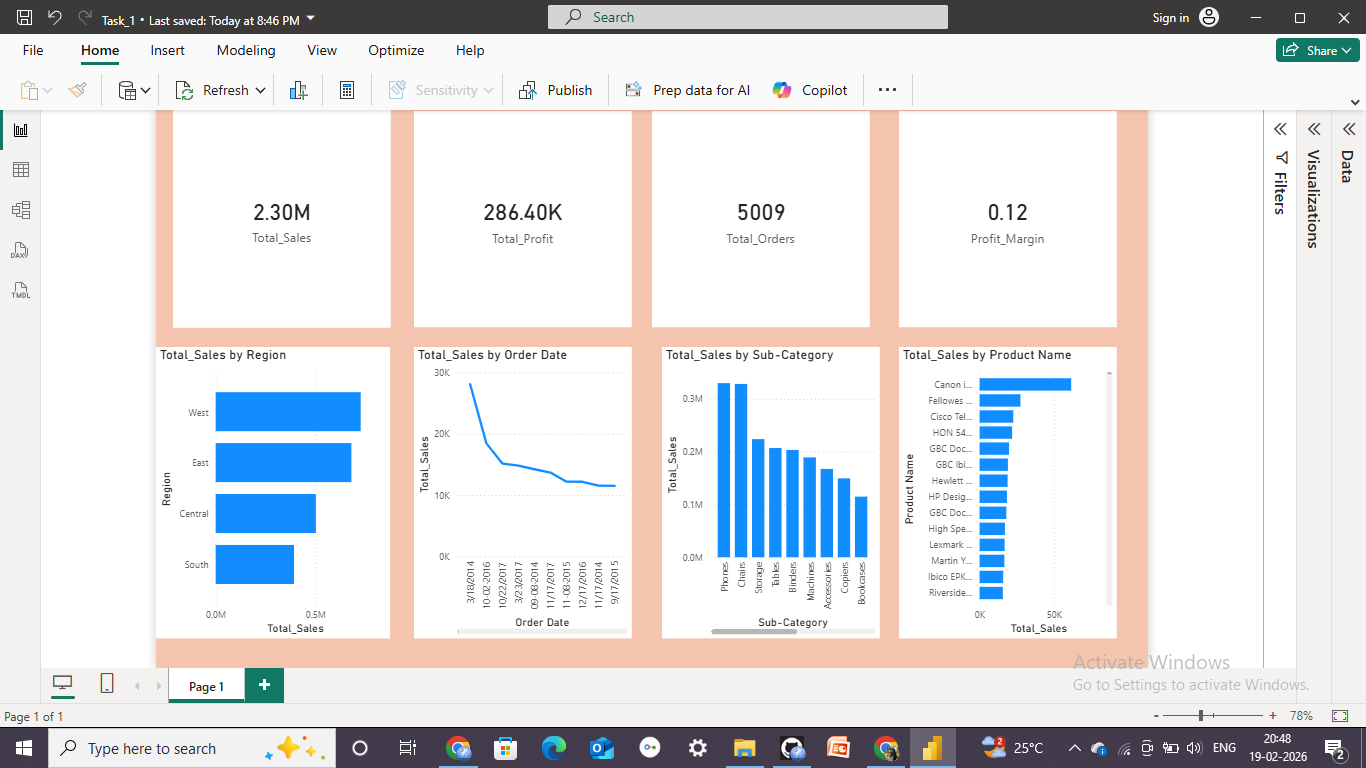

Layout of this report page (visuals, bound fields, positions):
{"tool":"powerbi","page":{"name":"Page 1","canvas":[1280,720],"ordinal":0},"visuals":[{"type":"card","fields":{"Values":["Sample - Superstore.Total_Sales"]},"box":[21.8,0,280.5,280.5],"z":0},{"type":"card","fields":{"Values":["Sample - Superstore.Total_Profit"]},"box":[332.6,1.7,280.5,278.8],"z":1},{"type":"card","fields":{"Values":["Sample - Superstore.Total_Orders"]},"box":[640,1.7,280.5,278.8],"z":2},{"type":"card","fields":{"Values":["Sample - Superstore.Profit_Margin"]},"box":[959.2,1.7,280.5,278.8],"z":3},{"type":"clusteredBarChart","fields":{"Category":["Sample - Superstore.Region"],"Y":["Sample - Superstore.Total_Sales"]},"box":[0,305.7,302.4,376.3],"z":4},{"type":"lineChart","fields":{"Category":["Sample - Superstore.Order Date"],"Y":["Sample - Superstore.Total_Sales"]},"box":[332.6,305.7,280.5,376.3],"z":5},{"type":"columnChart","fields":{"Category":["Sample - Superstore.Sub-Category"],"Y":["Sample - Superstore.Total_Sales"]},"box":[653.4,305.7,280.5,376.3],"z":6},{"type":"clusteredBarChart","fields":{"Category":["Sample - Superstore.Product Name"],"Y":["Sample - Superstore.Total_Sales"]},"box":[959.2,305.7,280.5,376.3],"z":7}]}

Visuals, with their boxes on the page's 1280x720 design canvas (x1, y1, x2, y2). These are canvas units, not pixel positions in the 1366x768 screenshot, which may show the page scaled, cropped or inside an application window:
card - Sample - Superstore.Total_Sales: x1=22 y1=0 x2=302 y2=280
card - Sample - Superstore.Total_Profit: x1=333 y1=2 x2=613 y2=280
card - Sample - Superstore.Total_Orders: x1=640 y1=2 x2=920 y2=280
card - Sample - Superstore.Profit_Margin: x1=959 y1=2 x2=1240 y2=280
clusteredBarChart - Sample - Superstore.Region x Sample - Superstore.Total_Sales: x1=0 y1=306 x2=302 y2=682
lineChart - Sample - Superstore.Order Date x Sample - Superstore.Total_Sales: x1=333 y1=306 x2=613 y2=682
columnChart - Sample - Superstore.Sub-Category x Sample - Superstore.Total_Sales: x1=653 y1=306 x2=934 y2=682
clusteredBarChart - Sample - Superstore.Product Name x Sample - Superstore.Total_Sales: x1=959 y1=306 x2=1240 y2=682
